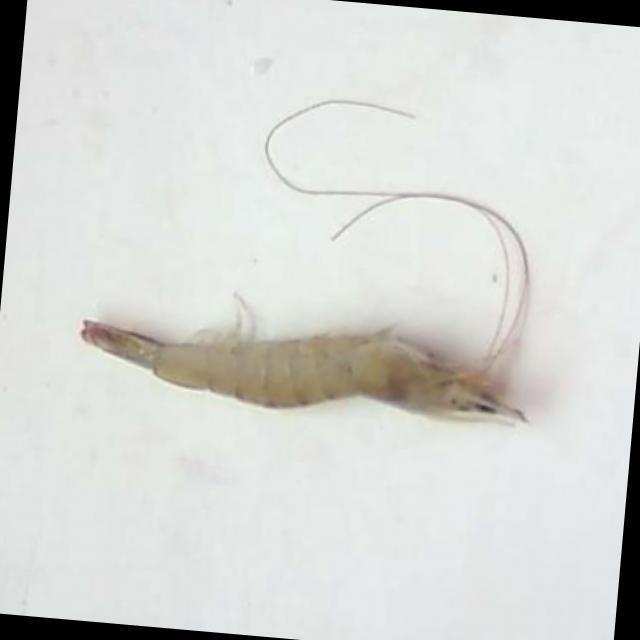shrimp: (81, 321, 528, 426)
